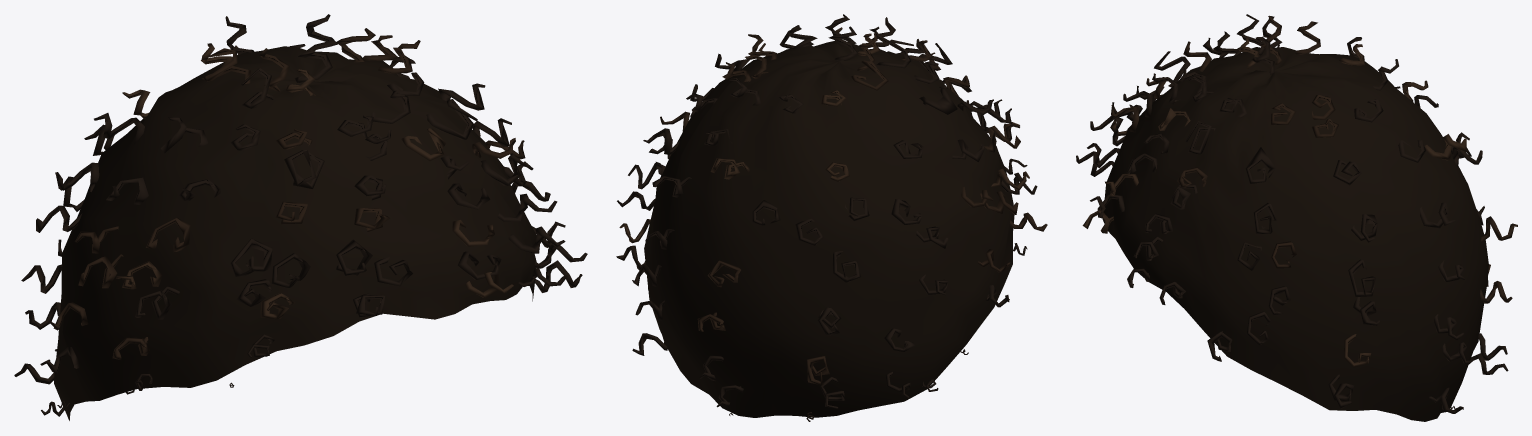
Rendered from curl-crop-fitted.glb.
3 views of the same model, side by side, from view 1: azimuth 30°, elevation 25°; view 2: azimuth 150°, elevation 25°; view 3: azimuth 270°, elevation 25° (orthographic). The views are drawn at different scales.
Parts seen in each view (by area): view 1: FIT curl-crop / C01 scalp foundation - far, FIT curl-crop / C01 tight curl crop - far; view 2: FIT curl-crop / C01 scalp foundation - far, FIT curl-crop / C01 tight curl crop - far; view 3: FIT curl-crop / C01 scalp foundation - far, FIT curl-crop / C01 tight curl crop - far.
Part boxes in pixels (left/top/right/bottom): FIT curl-crop / C01 scalp foundation - far: left=54, top=46, right=536, bottom=420; FIT curl-crop / C01 tight curl crop - far: left=14, top=14, right=587, bottom=416; FIT curl-crop / C01 scalp foundation - far: left=644, top=41, right=1014, bottom=417; FIT curl-crop / C01 tight curl crop - far: left=616, top=14, right=1047, bottom=421; FIT curl-crop / C01 scalp foundation - far: left=1102, top=47, right=1488, bottom=421; FIT curl-crop / C01 tight curl crop - far: left=1076, top=14, right=1517, bottom=413.
Size of the model in its own units: 0.1902 by 0.1614 by 0.1783.
